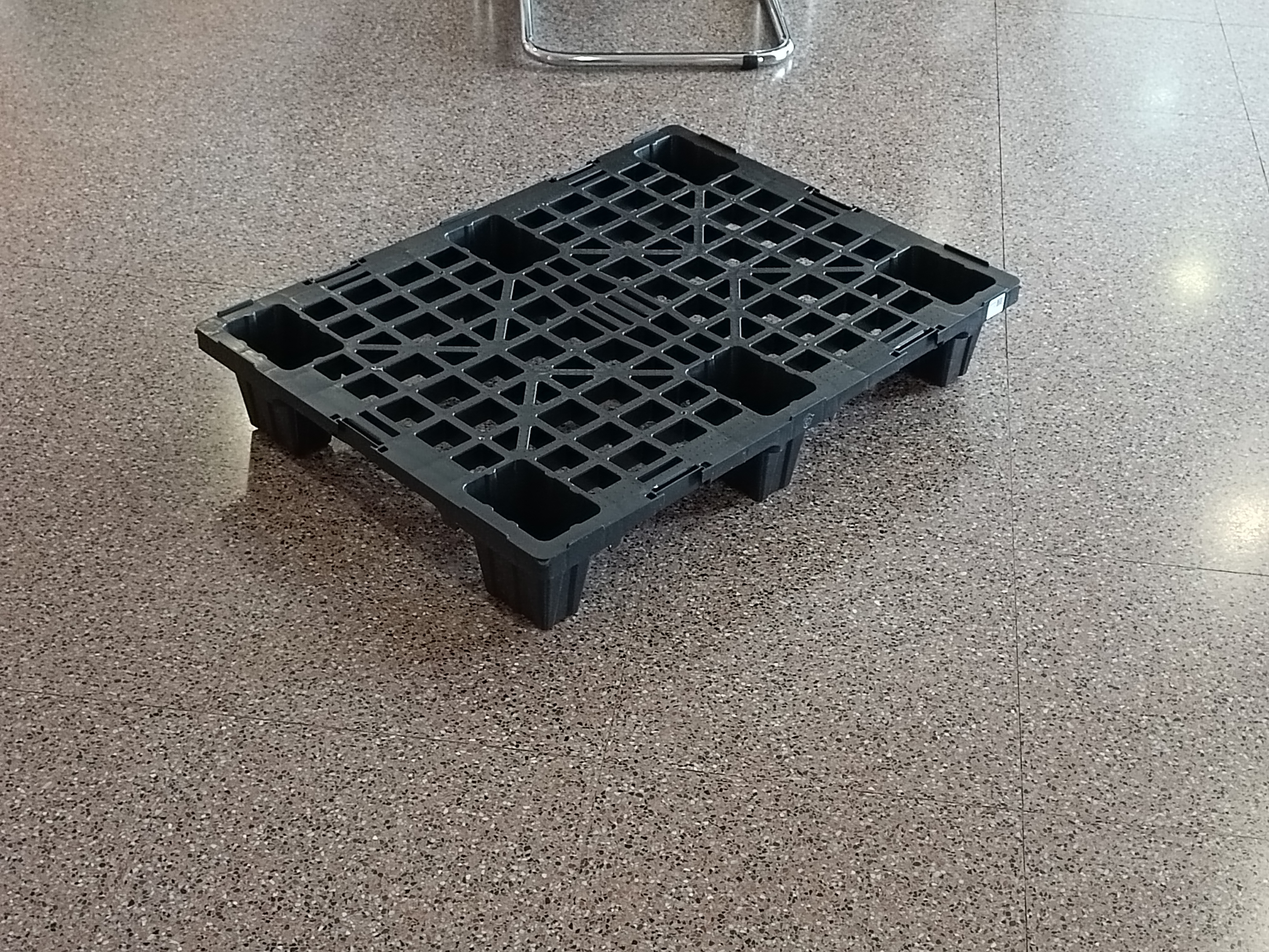block: (473, 530, 595, 632), (243, 367, 336, 454), (723, 417, 806, 501), (907, 322, 986, 390)
front: (529, 279, 1019, 657)
hole pallet: (582, 457, 756, 606), (794, 341, 952, 473)
